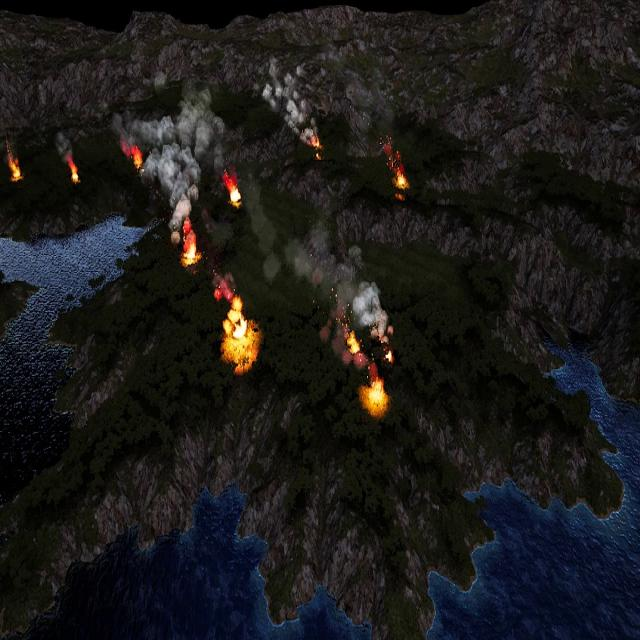fire: (223, 297, 259, 367), (387, 149, 407, 189), (364, 377, 386, 411), (223, 175, 241, 209), (181, 237, 197, 265), (8, 157, 21, 182), (311, 135, 323, 159), (130, 147, 143, 169), (347, 334, 360, 354), (70, 162, 79, 183), (385, 350, 393, 363)
smoke: (246, 185, 390, 380), (113, 78, 223, 232), (263, 57, 316, 141), (351, 280, 389, 334), (211, 269, 235, 303), (56, 131, 74, 166)
